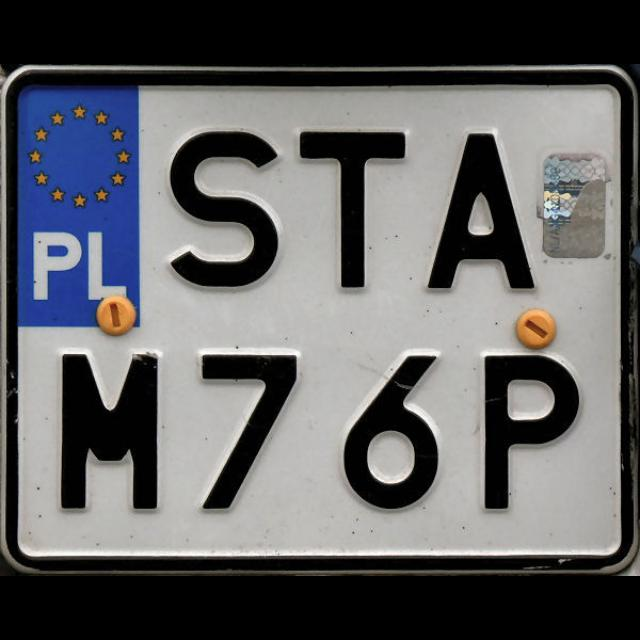pl_license_plate: (18, 86, 620, 552)
